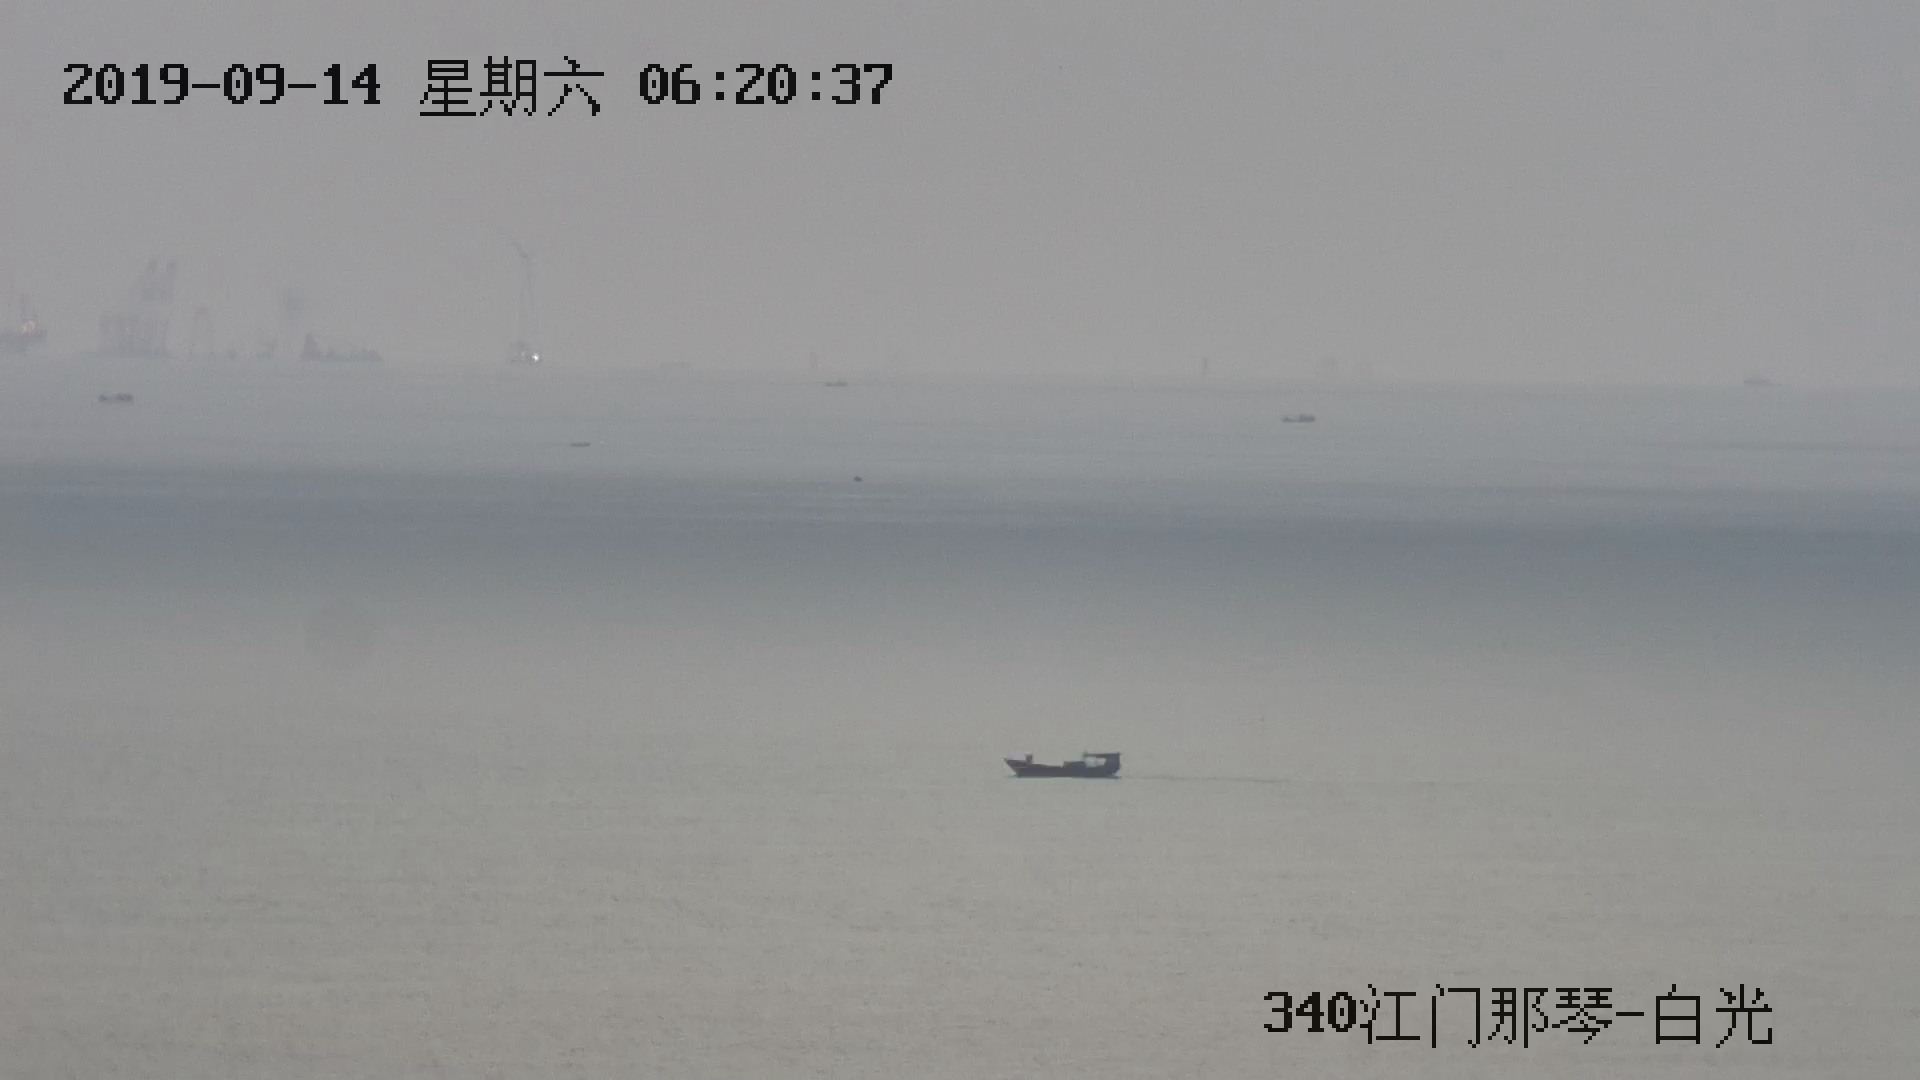ship: (1004, 748, 1124, 781)
